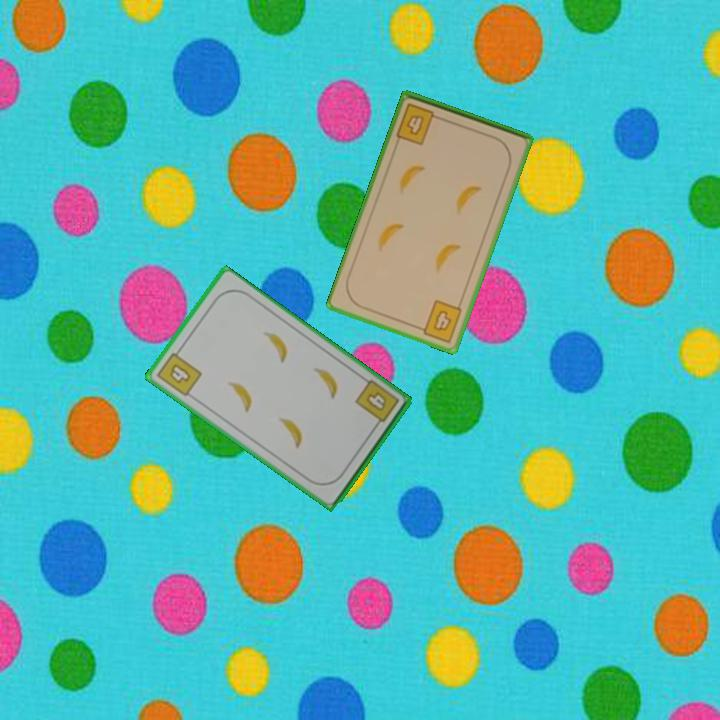4b: (153, 344, 205, 400), (351, 376, 402, 431), (414, 296, 465, 346), (392, 100, 445, 148)
